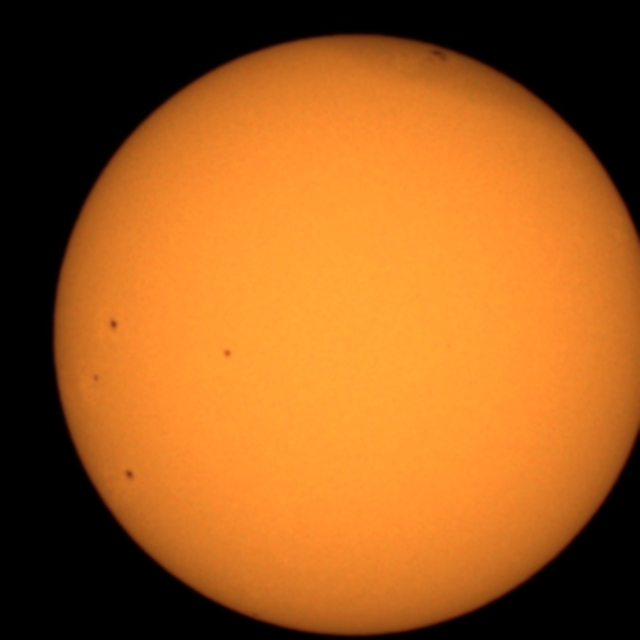sunspot: (220, 346, 235, 362), (107, 317, 120, 334), (123, 468, 136, 483), (91, 372, 101, 384)
